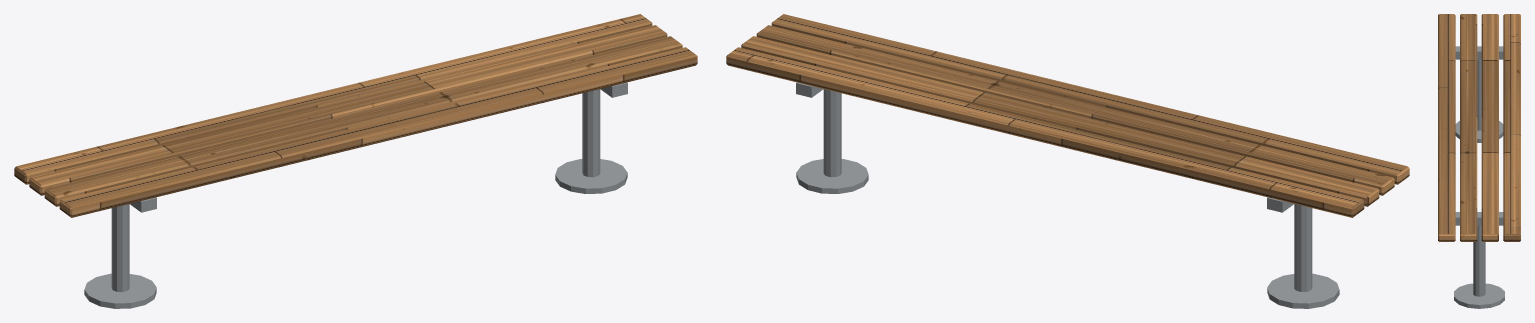
Rendered from lr_bench.glb.
The picture shows the model from 3 angles, left to right: view 1: azimuth 30°, elevation 25°; view 2: azimuth 150°, elevation 25°; view 3: azimuth 270°, elevation 25°; orthographic projection. The views are drawn at different scales.
Parts seen in each view (by area): view 1: lr_bench_wood, lr_bench_steel; view 2: lr_bench_wood, lr_bench_steel; view 3: lr_bench_wood, lr_bench_steel.
Boxes of the visible parts, x1=… form: lr_bench_wood: x1=14, y1=14, x2=697, y2=217; lr_bench_steel: x1=84, y1=82, x2=627, y2=308; lr_bench_wood: x1=726, y1=14, x2=1409, y2=217; lr_bench_steel: x1=796, y1=82, x2=1339, y2=308; lr_bench_wood: x1=1438, y1=14, x2=1520, y2=241; lr_bench_steel: x1=1454, y1=46, x2=1504, y2=308.
Bounding box in the file's own units: 2.4 × 0.46 × 0.38.
2 materials, 1 textured.
